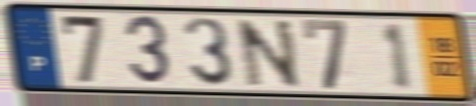1: (380, 20, 412, 93)
3: (120, 12, 174, 89), (182, 15, 236, 89)
7: (299, 17, 351, 93), (57, 12, 110, 85)
N: (232, 17, 304, 90)
